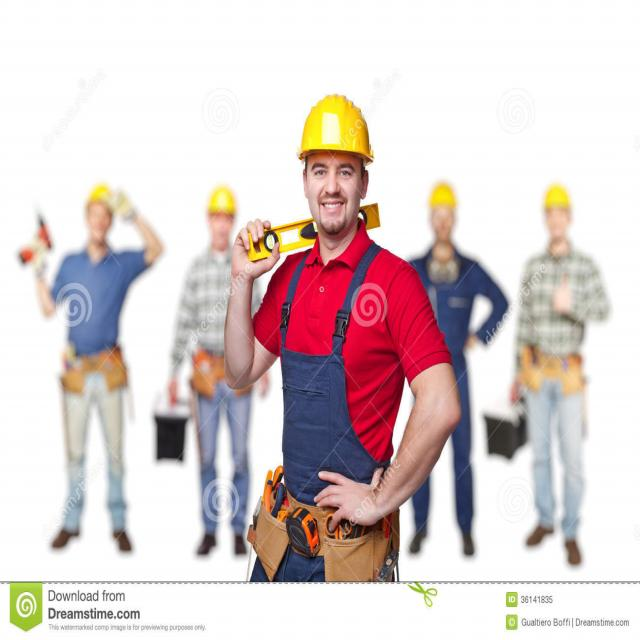Safety-Helmet: (297, 92, 375, 162), (203, 179, 239, 220), (424, 174, 460, 212), (538, 178, 575, 214)
